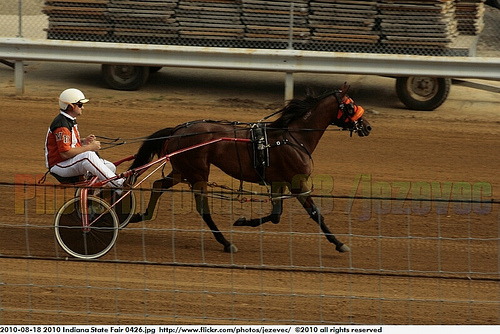horse: (125, 81, 374, 257)
